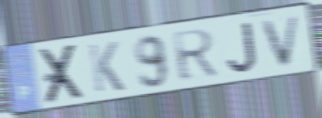9: (133, 33, 171, 89)
J: (226, 19, 260, 74)
K: (86, 39, 127, 95)
R: (170, 27, 220, 85)
V: (260, 12, 304, 69)
X: (37, 41, 88, 107)
